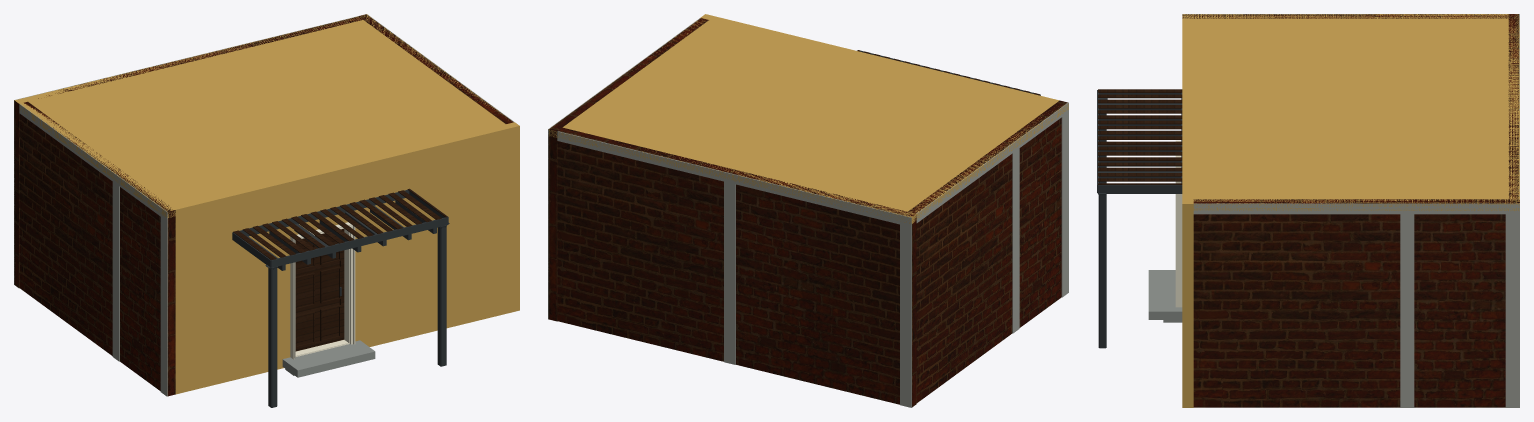
The model's file is building.glb.
3 views of the same model, side by side, from view 1: azimuth 30°, elevation 25°; view 2: azimuth 150°, elevation 25°; view 3: azimuth 270°, elevation 25° (orthographic). The views are drawn at different scales.
Parts seen in each view (by area): view 1: roof/house:0/roof_slab#0001, house:0/edge0/z0/house:0/edge0/z0/wall_0_0, house:0/edge3/z0/house:0/edge3/z0/wall_0_0, house:0/edge2/z0/house:0/edge2/z0/wall_0_0, site/entrance/0/entrance_step#0002, roof_assembly/marquesina/roof_fascia#0002, house:0/edge3/z0/house:0/edge3/z0/beam_0_0, house:0/edge3/z0/house:0/edge3/z0/column_2_0, house:0/edge3/z0/house:0/edge3/z0/column_1_0, roof_assembly/marquesina/member_shaft#0001, roof_assembly/marquesina/member_shaft#0002, house:0/edge1/z0/house:0/edge1/z0/wall_0_0 (+9 smaller); view 2: house:0/edge2/z0/house:0/edge2/z0/wall_0_0, roof/house:0/roof_slab#0001, house:0/edge3/z0/house:0/edge3/z0/wall_0_0, house:0/edge2/z0/house:0/edge2/z0/beam_0_0, house:0/edge1/z0/house:0/edge1/z0/wall_0_0, house:0/edge2/z0/house:0/edge2/z0/column_1_0, house:0/edge2/z0/house:0/edge2/z0/column_2_0, house:0/edge0/z0/house:0/edge0/z0/wall_0_0, house:0/edge3/z0/house:0/edge3/z0/beam_0_0, house:0/edge3/z0/house:0/edge3/z0/column_2_0, house:0/edge3/z0/house:0/edge3/z0/column_1_0; view 3: roof/house:0/roof_slab#0001, house:0/edge1/z0/house:0/edge1/z0/wall_0_0, house:0/edge0/z0/house:0/edge0/z0/wall_0_0, house:0/edge1/z0/house:0/edge1/z0/beam_0_0, house:0/edge1/z0/house:0/edge1/z0/column_1_0, house:0/edge1/z0/house:0/edge1/z0/column_2_0, house:0/edge2/z0/house:0/edge2/z0/wall_0_0, house:0/edge3/z0/house:0/edge3/z0/wall_0_0, site/entrance/0/entrance_step#0002, roof_assembly/marquesina/member_shaft#0001, house:0/edge0/z0/opening_u2.80_v0.12/door_moulding#0028, roof_assembly/marquesina/roof_fascia#0003 (+7 smaller).
Part boxes in pixels (<box>): roof/house:0/roof_slab#0001: <box>14,14,519,217</box>; house:0/edge0/z0/house:0/edge0/z0/wall_0_0: <box>175,122,519,394</box>; house:0/edge3/z0/house:0/edge3/z0/wall_0_0: <box>20,101,175,396</box>; house:0/edge2/z0/house:0/edge2/z0/wall_0_0: <box>14,16,362,288</box>; site/entrance/0/entrance_step#0002: <box>282,340,375,377</box>; roof_assembly/marquesina/roof_fascia#0002: <box>271,217,448,267</box>; house:0/edge3/z0/house:0/edge3/z0/beam_0_0: <box>19,104,167,220</box>; house:0/edge3/z0/house:0/edge3/z0/column_2_0: <box>112,182,119,361</box>; house:0/edge3/z0/house:0/edge3/z0/column_1_0: <box>160,217,167,396</box>; roof_assembly/marquesina/member_shaft#0001: <box>437,227,446,366</box>; roof_assembly/marquesina/member_shaft#0002: <box>268,268,277,407</box>; house:0/edge1/z0/house:0/edge1/z0/wall_0_0: <box>358,14,513,123</box>; house:0/edge2/z0/house:0/edge2/z0/wall_0_0: <box>557,127,916,407</box>; roof/house:0/roof_slab#0001: <box>548,14,1068,223</box>; house:0/edge3/z0/house:0/edge3/z0/wall_0_0: <box>908,100,1067,402</box>; house:0/edge2/z0/house:0/edge2/z0/beam_0_0: <box>557,131,911,227</box>; house:0/edge1/z0/house:0/edge1/z0/wall_0_0: <box>548,18,708,321</box>; house:0/edge2/z0/house:0/edge2/z0/column_1_0: <box>900,224,911,407</box>; house:0/edge2/z0/house:0/edge2/z0/column_2_0: <box>724,181,735,364</box>; house:0/edge0/z0/house:0/edge0/z0/wall_0_0: <box>700,14,1059,103</box>; house:0/edge3/z0/house:0/edge3/z0/beam_0_0: <box>916,102,1068,222</box>; house:0/edge3/z0/house:0/edge3/z0/column_2_0: <box>1012,148,1019,333</box>; house:0/edge3/z0/house:0/edge3/z0/column_1_0: <box>1061,112,1068,297</box>; roof/house:0/roof_slab#0001: <box>1182,14,1519,211</box>; house:0/edge1/z0/house:0/edge1/z0/wall_0_0: <box>1193,199,1519,407</box>; house:0/edge0/z0/house:0/edge0/z0/wall_0_0: <box>1182,18,1193,407</box>; house:0/edge1/z0/house:0/edge1/z0/beam_0_0: <box>1193,203,1519,214</box>; house:0/edge1/z0/house:0/edge1/z0/column_1_0: <box>1505,214,1519,407</box>; house:0/edge1/z0/house:0/edge1/z0/column_2_0: <box>1400,214,1414,407</box>; house:0/edge2/z0/house:0/edge2/z0/wall_0_0: <box>1508,14,1518,199</box>; house:0/edge3/z0/house:0/edge3/z0/wall_0_0: <box>1182,14,1508,18</box>; site/entrance/0/entrance_step#0002: <box>1148,270,1182,319</box>; roof_assembly/marquesina/member_shaft#0001: <box>1098,195,1106,348</box>; house:0/edge0/z0/opening_u2.80_v0.12/door_moulding#0028: <box>1175,140,1182,307</box>; roof_assembly/marquesina/roof_fascia#0003: <box>1098,185,1182,193</box>.
Size of the model in its own units: 8 by 4.04 by 7.52.
7 materials, 2 textured.
